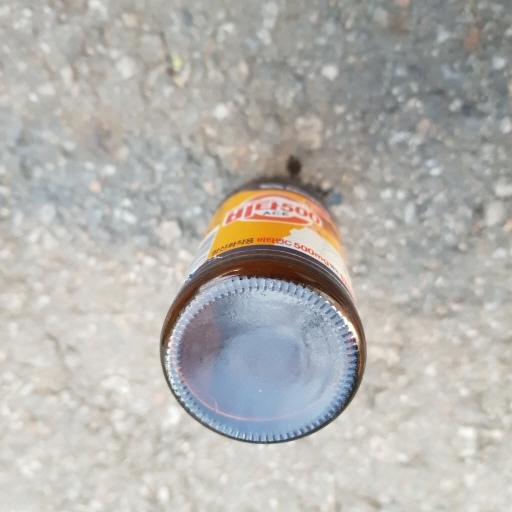Glass_3: (155, 170, 370, 444)
